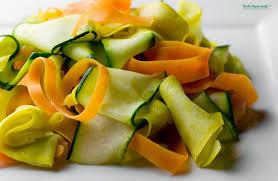Organic: (4, 5, 278, 181)
